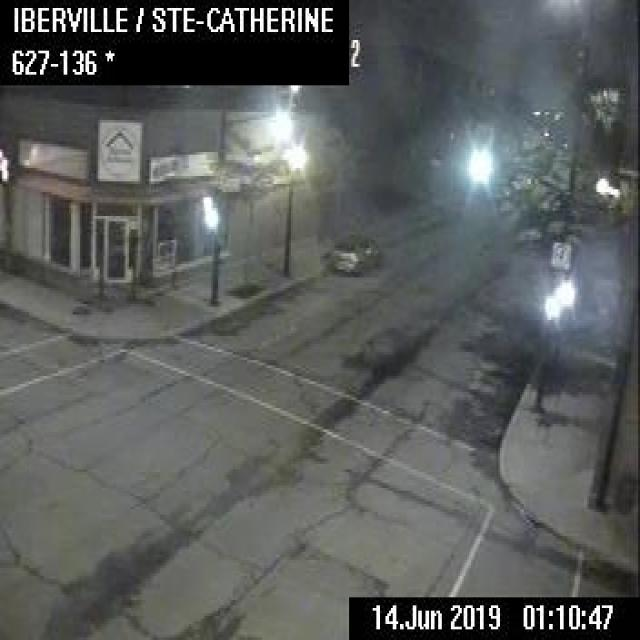vehicle: (331, 232, 378, 272)
